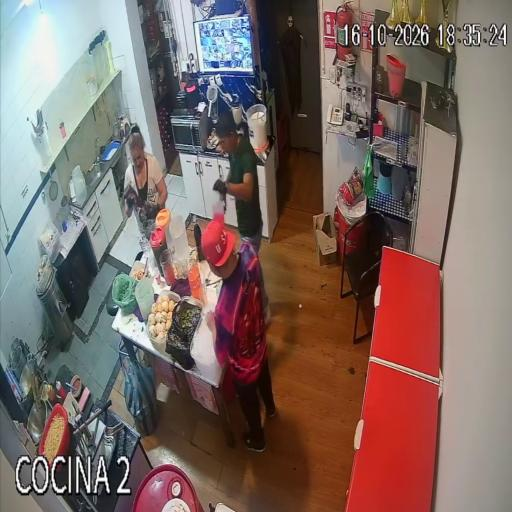Balde: (247, 104, 268, 154)
Cernidor: (206, 85, 218, 117)
Jarra1: (150, 228, 167, 276)
Jarra2: (155, 209, 172, 247)
Jarra3: (135, 278, 154, 321)
Jarra4: (170, 215, 189, 263)
Licuadora: (208, 99, 220, 138)
Licuadora2: (231, 95, 242, 133)
Microondas: (171, 109, 209, 153)
Persona1: (202, 219, 276, 452)
Persona2: (124, 125, 167, 232)
Persona3: (213, 118, 262, 252)
Taper: (130, 261, 151, 280)
Taper2: (146, 290, 182, 354)
Taper3: (165, 297, 202, 370)
Taper4: (191, 306, 221, 384)
